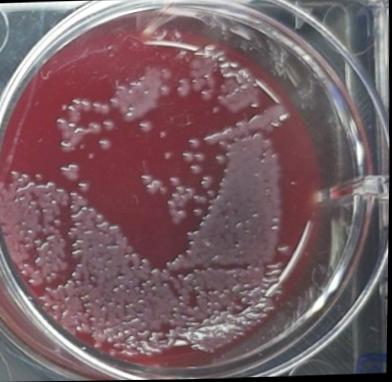asalmonicida: (203, 127, 233, 146), (167, 185, 186, 209), (59, 162, 80, 182), (168, 208, 188, 228), (176, 77, 192, 100), (166, 254, 185, 272), (146, 179, 164, 195), (137, 119, 154, 135), (97, 135, 114, 150), (212, 48, 227, 64), (59, 138, 73, 155), (68, 222, 81, 240), (78, 179, 93, 194), (187, 137, 201, 152), (103, 118, 118, 132), (181, 151, 195, 164), (159, 84, 173, 97), (213, 153, 227, 165), (201, 175, 212, 190), (194, 194, 208, 205), (96, 220, 110, 231), (190, 163, 202, 175), (169, 174, 180, 187), (193, 207, 205, 218), (194, 153, 206, 164), (207, 187, 217, 198)
